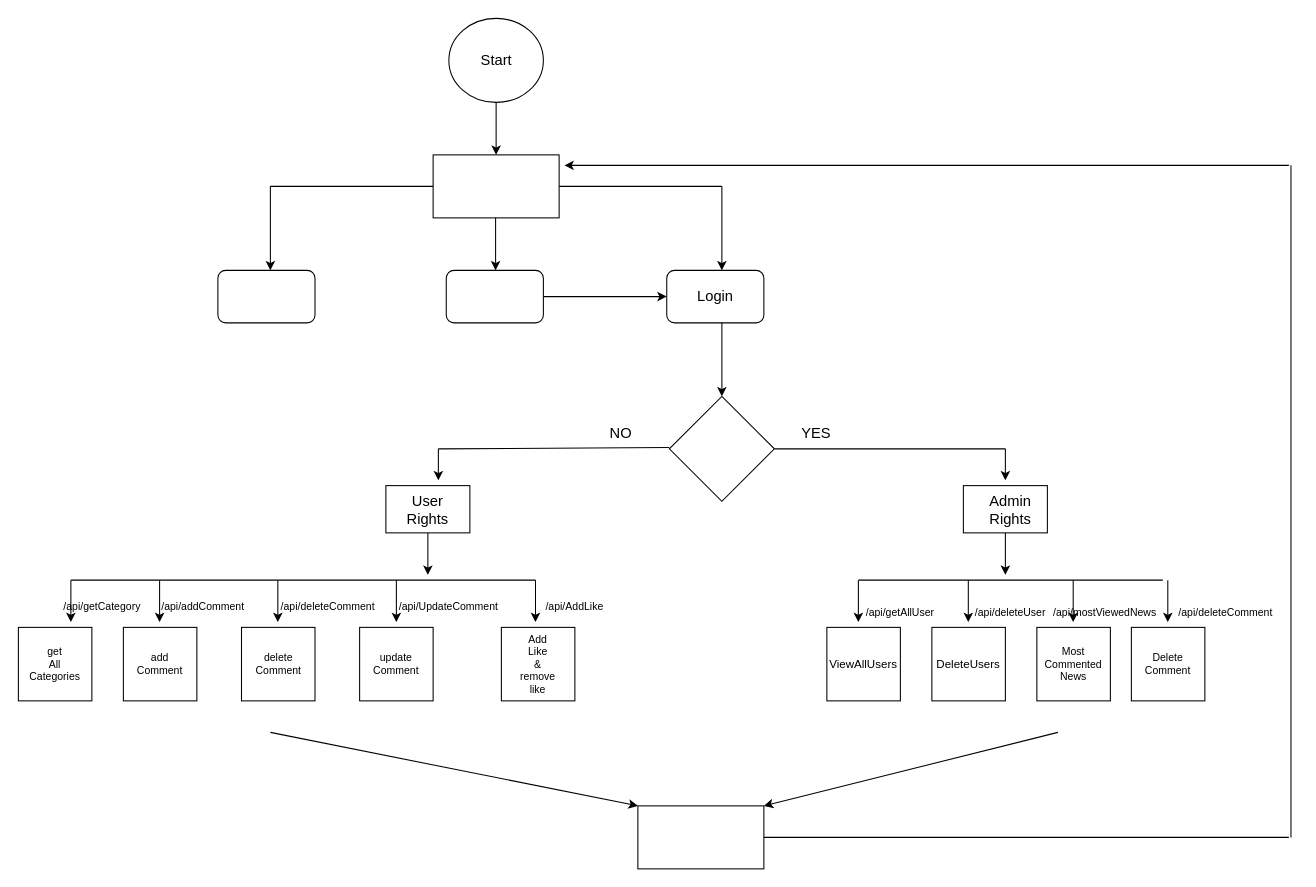
Some shapes in this 1316 by 887 pixel diagram are drawn without their labels. The shapes that lost their labels are listed below. From the top down, each one's box as (x1, y1, x2, y2) in pixels, then its label:
(432, 154, 559, 218): Home Page
(217, 269, 315, 323): News Contains
(445, 269, 543, 323): Register
(668, 395, 774, 501): isAdmin
(637, 805, 764, 869): Log Out
